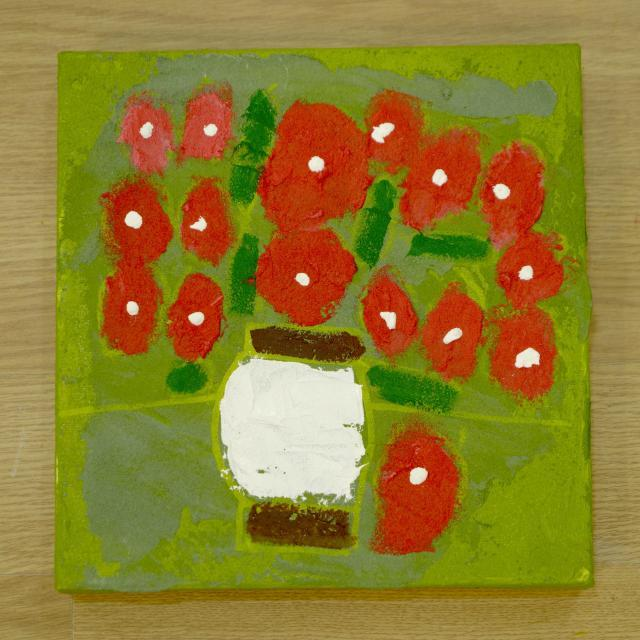painting: (56, 45, 592, 592)
